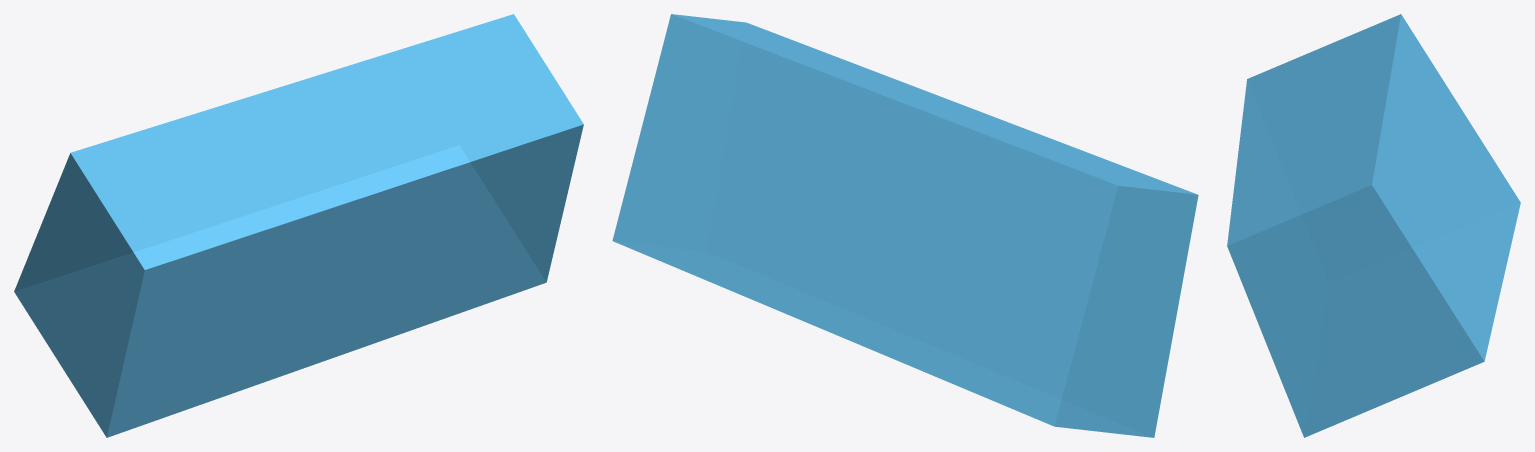
The model's file is Event_421364160_HErechit_6.fbx.
The picture shows the model from 3 angles, left to right: view 1: azimuth 30°, elevation 25°; view 2: azimuth 150°, elevation 25°; view 3: azimuth 270°, elevation 25°; orthographic projection. The views are drawn at different scales.
Parts seen in each view (by area): view 1: Model; view 2: Model; view 3: Model.
Boxes of the visible parts, x1,y1,x2,y2 form: Model: (14, 14, 583, 437); Model: (612, 14, 1198, 437); Model: (1227, 14, 1520, 437).
Size of the model in its own units: 0.6488 by 0.4395 by 0.3716.
